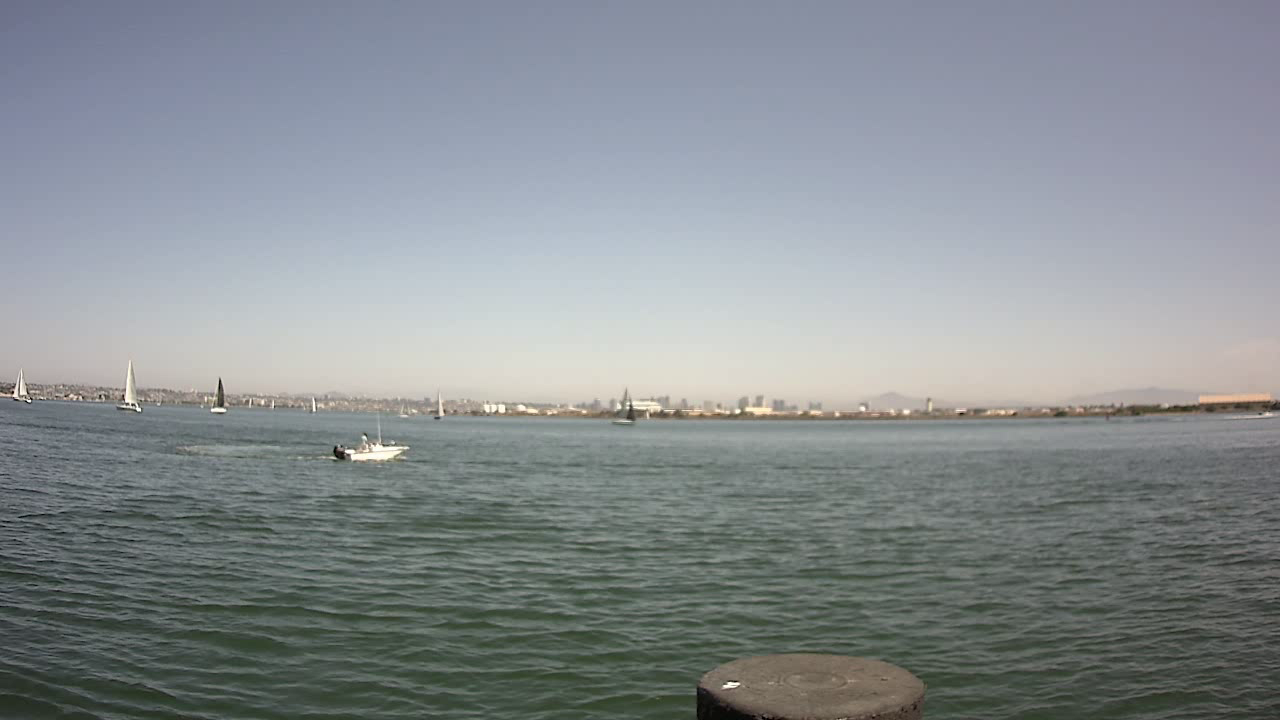target: (332, 424, 413, 467)
